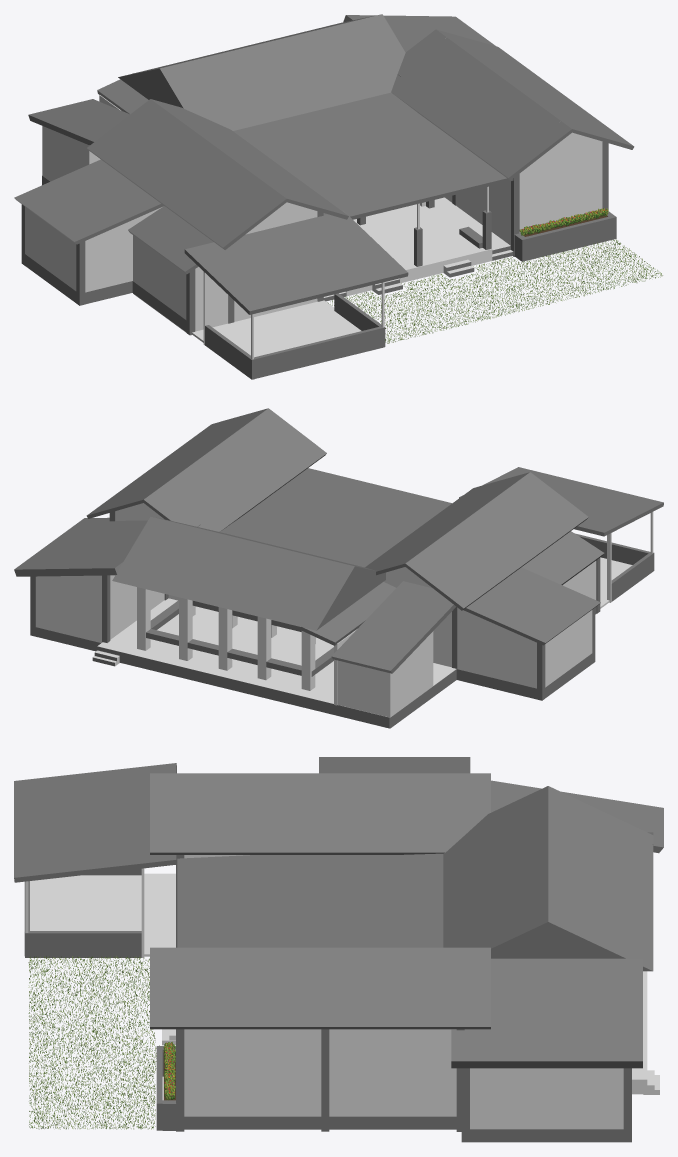
File: CanteenNavglb.glb
3 renders of one model, top to bottom at view 1: azimuth 30°, elevation 25°; view 2: azimuth 150°, elevation 25°; view 3: azimuth 270°, elevation 25°, orthographic. The views are drawn at different scales.
Parts seen in each view (by area): view 1: Cube.003, Cube.013, Cube.001, Cube.002, Cube.031, roof1.001, Grass on canteen green space, Cube.038, Cube, Cube.037, Cube.044, Cube.035 (+17 smaller); view 2: Cube.013, Cube.001, Cube.002, Cube.003, Cube.014, Cube.037, Cube.036, Cube.038, Cube.025, Cube.026, Cube.027, Cube.031 (+22 smaller); view 3: Cube.013, Cube.002, Cube.001, Cube.003, roof1.001, Cube.026, Cube.031, Grass on canteen green space, Cube.025, Cube.044, roof1.003, Cube.032 (+9 smaller).
Part boxes in pixels (x1,y1,x2,y2): Cube.003: (233,92,513,219); Cube.013: (118,14,405,130); Cube.001: (87,99,348,249); Cube.002: (391,29,634,180); Cube.031: (184,210,408,314); roof1.001: (445,38,602,245); Grass on canteen green space: (327,239,662,343); Cube.038: (14,159,163,244); Cube: (346,204,492,296); Cube.037: (25,207,162,292); Cube.044: (192,300,361,357); Cube.035: (133,235,228,335); Cube.013: (112,516,385,630); Cube.001: (365,472,588,610); Cube.002: (86,408,326,531); Cube.003: (220,468,451,567); Cube.014: (97,598,456,728); Cube.037: (457,608,592,688); Cube.036: (331,581,456,673); Cube.038: (463,567,600,645); Cube.025: (36,575,164,642); Cube.026: (14,517,147,576); Cube.027: (337,631,433,717); Cube.031: (459,467,663,536); Cube.013: (443,786,653,971); Cube.002: (150,947,490,1029); Cube.001: (150,773,490,854); Cube.003: (177,853,443,947); roof1.001: (184,1029,456,1116); Cube.026: (451,958,642,1068); Cube.031: (14,763,176,882); Grass on canteen green space: (28,956,159,1129); Cube.025: (470,1068,623,1129); Cube.044: (30,873,175,956); roof1.003: (184,1116,456,1129); Cube.032: (25,931,141,957).
Bounding box in the file's own units: 27.04 × 6.57 × 23.82.
